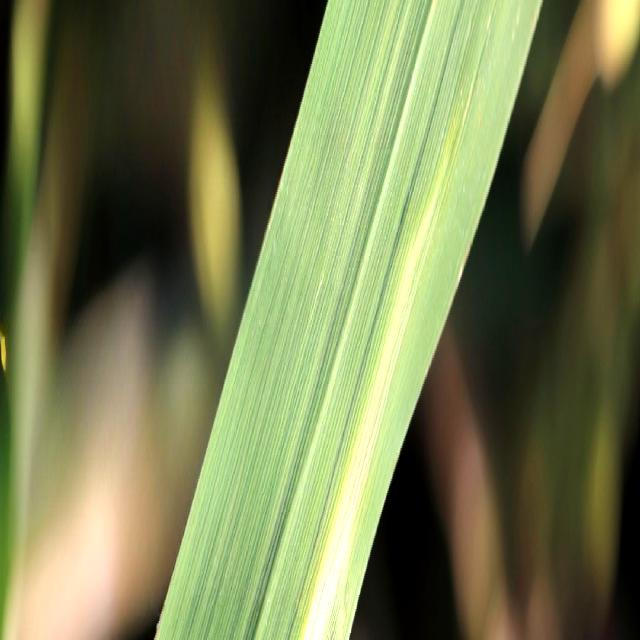BLB: (303, 429, 377, 640)
